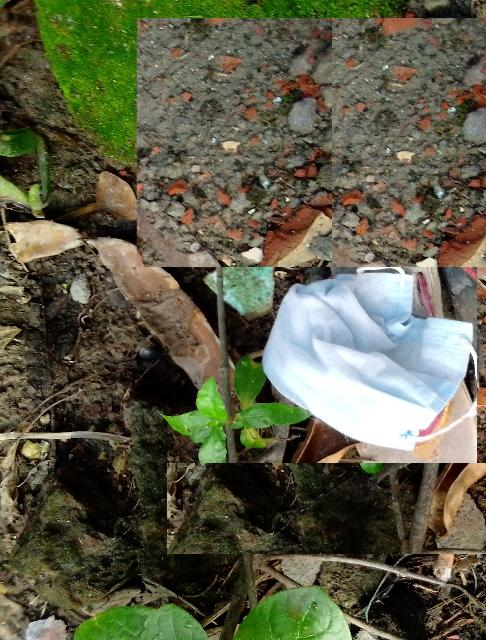mask: (255, 232, 486, 462)
